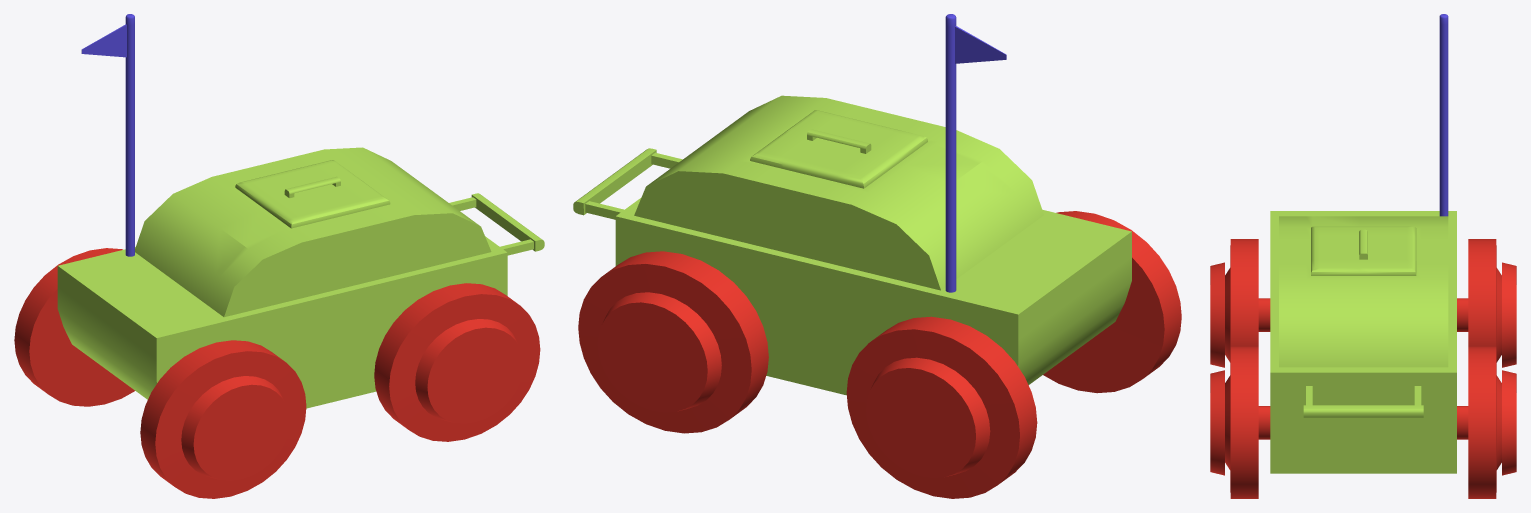
File: CarritoHelados.fbx
The picture shows the model from 3 angles, left to right: view 1: azimuth 30°, elevation 25°; view 2: azimuth 150°, elevation 25°; view 3: azimuth 270°, elevation 25°; orthographic projection. The views are drawn at different scales.
Parts seen in each view (by area): view 1: Cube.041; view 2: Cube.041; view 3: Cube.041.
Part boxes in pixels (x1,y1,x2,y2): Cube.041: (14, 14, 544, 498); Cube.041: (573, 14, 1181, 498); Cube.041: (1210, 14, 1516, 498).
Bounding box in the file's own units: 477 × 421 × 313.
